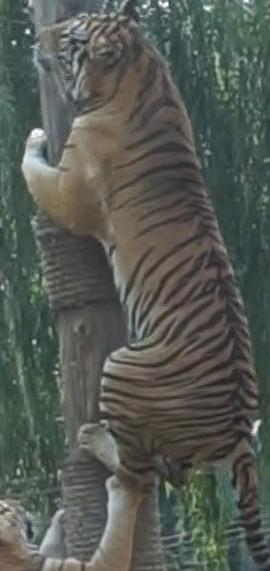tiger: (22, 13, 269, 570)
